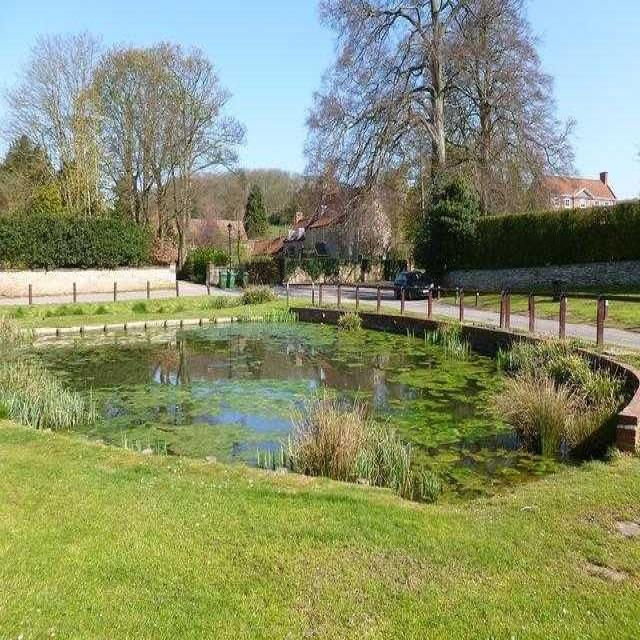Ponds: (6, 319, 634, 509)
